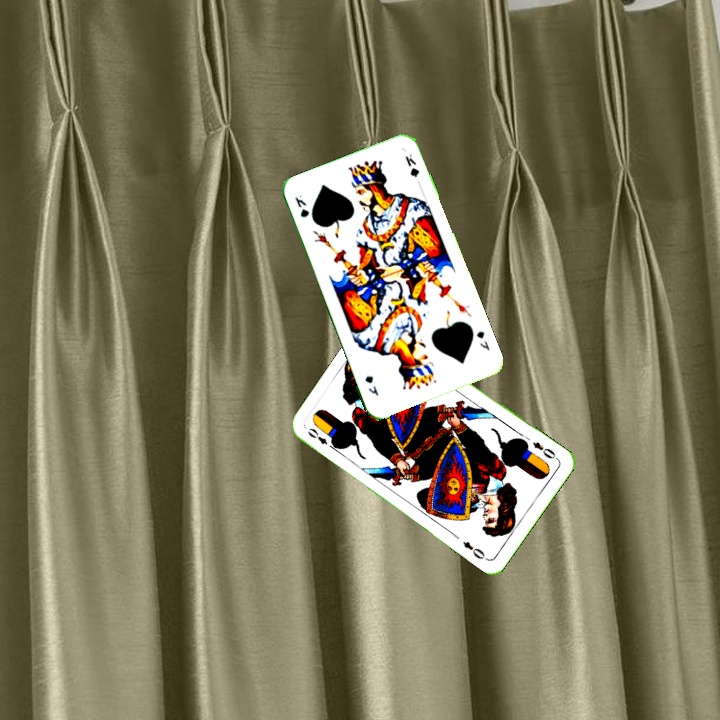EO: (304, 424, 338, 452), (528, 438, 561, 463)
GK: (291, 191, 312, 220), (472, 327, 493, 353)
